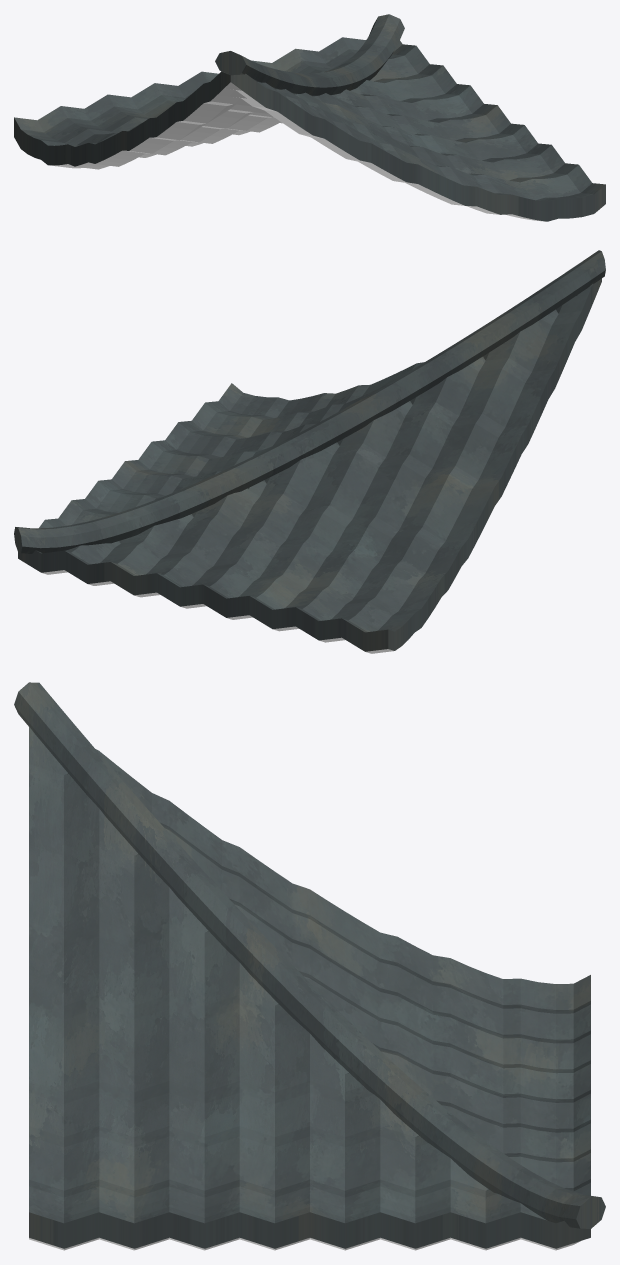
The model's file is EastRoof_Corner_3p2m.fbx.
3 views of the same model, one above another, from view 1: azimuth 30°, elevation 25°; view 2: azimuth 150°, elevation 25°; view 3: azimuth 270°, elevation 25° (orthographic). The views are drawn at different scales.
Parts seen in each view (by area): view 1: EastRoof_Corner_3p2m; view 2: EastRoof_Corner_3p2m; view 3: EastRoof_Corner_3p2m.
Boxes of the visible parts, x1,y1,x2,y2 form: EastRoof_Corner_3p2m: (14,14,605,221); EastRoof_Corner_3p2m: (14,250,605,653); EastRoof_Corner_3p2m: (14,682,605,1250).
Size of the model in its own units: 3.37 by 2.12 by 3.37.
2 materials, 1 textured.
